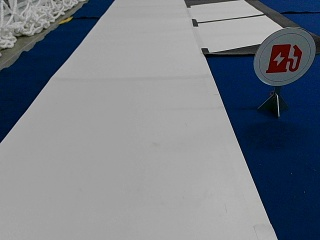battery: (253, 27, 315, 88)
